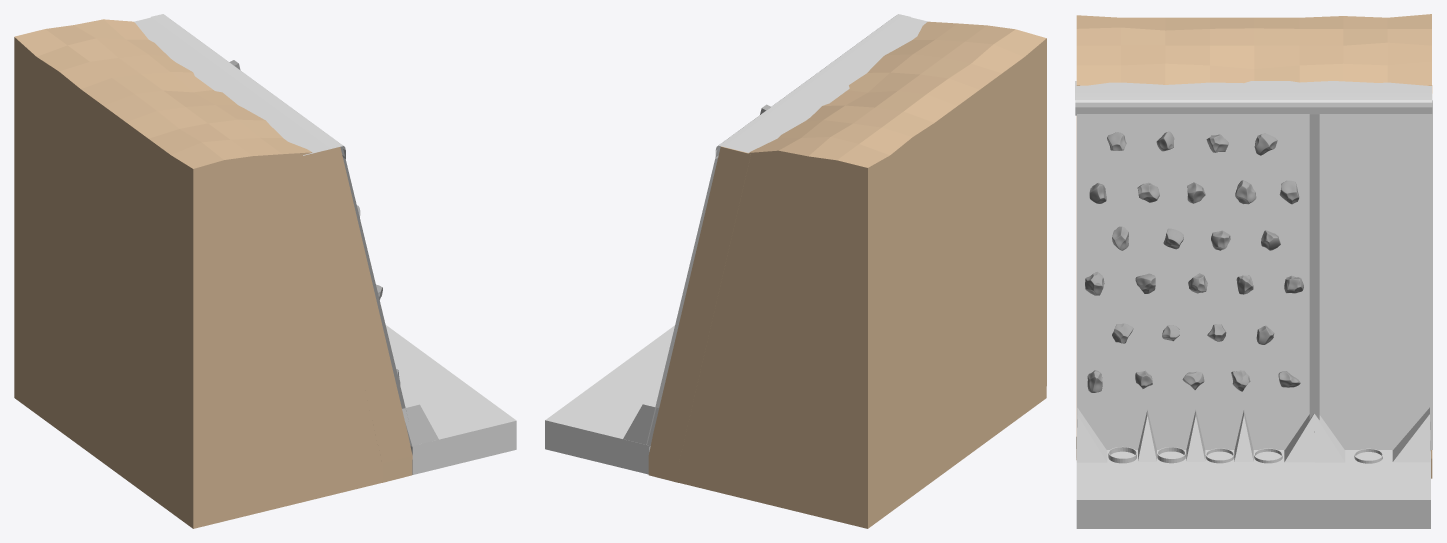
3 views of the same model, side by side, from view 1: azimuth 30°, elevation 25°; view 2: azimuth 150°, elevation 25°; view 3: azimuth 270°, elevation 25° (orthographic).
Parts seen in each view (by area): view 1: Cube.002, Plane.005, Plane, Plane.002, Plane.001, Cube.007; view 2: Cube.002, Plane.005, Plane, Plane.002, Plane.001, Cube.007; view 3: Plane.001, Plane.005, Cube.002, Icosphere.004, Plane.002, Cube.007, Plane, Cube.
Boxes of the visible parts, <box> form: Cube.002: <box>14,19,412,528</box>; Plane.005: <box>385,325,516,474</box>; Plane: <box>134,17,342,155</box>; Plane.002: <box>151,14,345,158</box>; Plane.001: <box>340,146,406,411</box>; Cube.007: <box>402,404,438,446</box>; Cube.002: <box>648,21,1046,528</box>; Plane.005: <box>545,325,674,474</box>; Plane: <box>719,17,927,152</box>; Plane.002: <box>715,14,910,158</box>; Plane.001: <box>646,145,720,444</box>; Cube.007: <box>623,404,658,446</box>; Plane.001: <box>1077,100,1432,449</box>; Plane.005: <box>1076,450,1430,528</box>; Cube.002: <box>1076,14,1432,478</box>; Icosphere.004: <box>1085,131,1303,392</box>; Plane.002: <box>1075,93,1432,115</box>; Cube.007: <box>1076,407,1430,462</box>; Plane: <box>1075,81,1431,99</box>; Cube: <box>1309,111,1319,419</box>.
Bounding box in the file's own units: 520 × 557 × 501.
